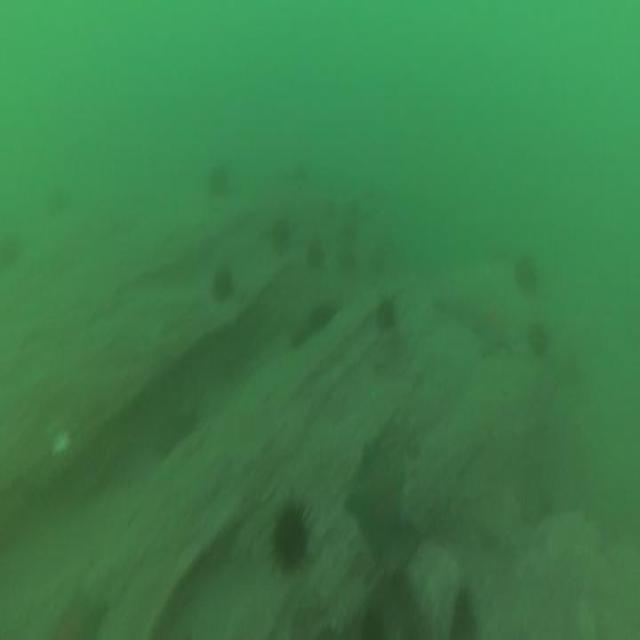echinus: (266, 496, 314, 582), (449, 584, 479, 640), (510, 250, 540, 298), (207, 260, 236, 306), (44, 177, 72, 223), (524, 316, 552, 362), (267, 213, 293, 261), (0, 228, 22, 281), (206, 156, 230, 202), (308, 300, 338, 335), (373, 294, 398, 333), (303, 240, 326, 272), (335, 243, 357, 275)
starfish: (55, 586, 112, 640)
